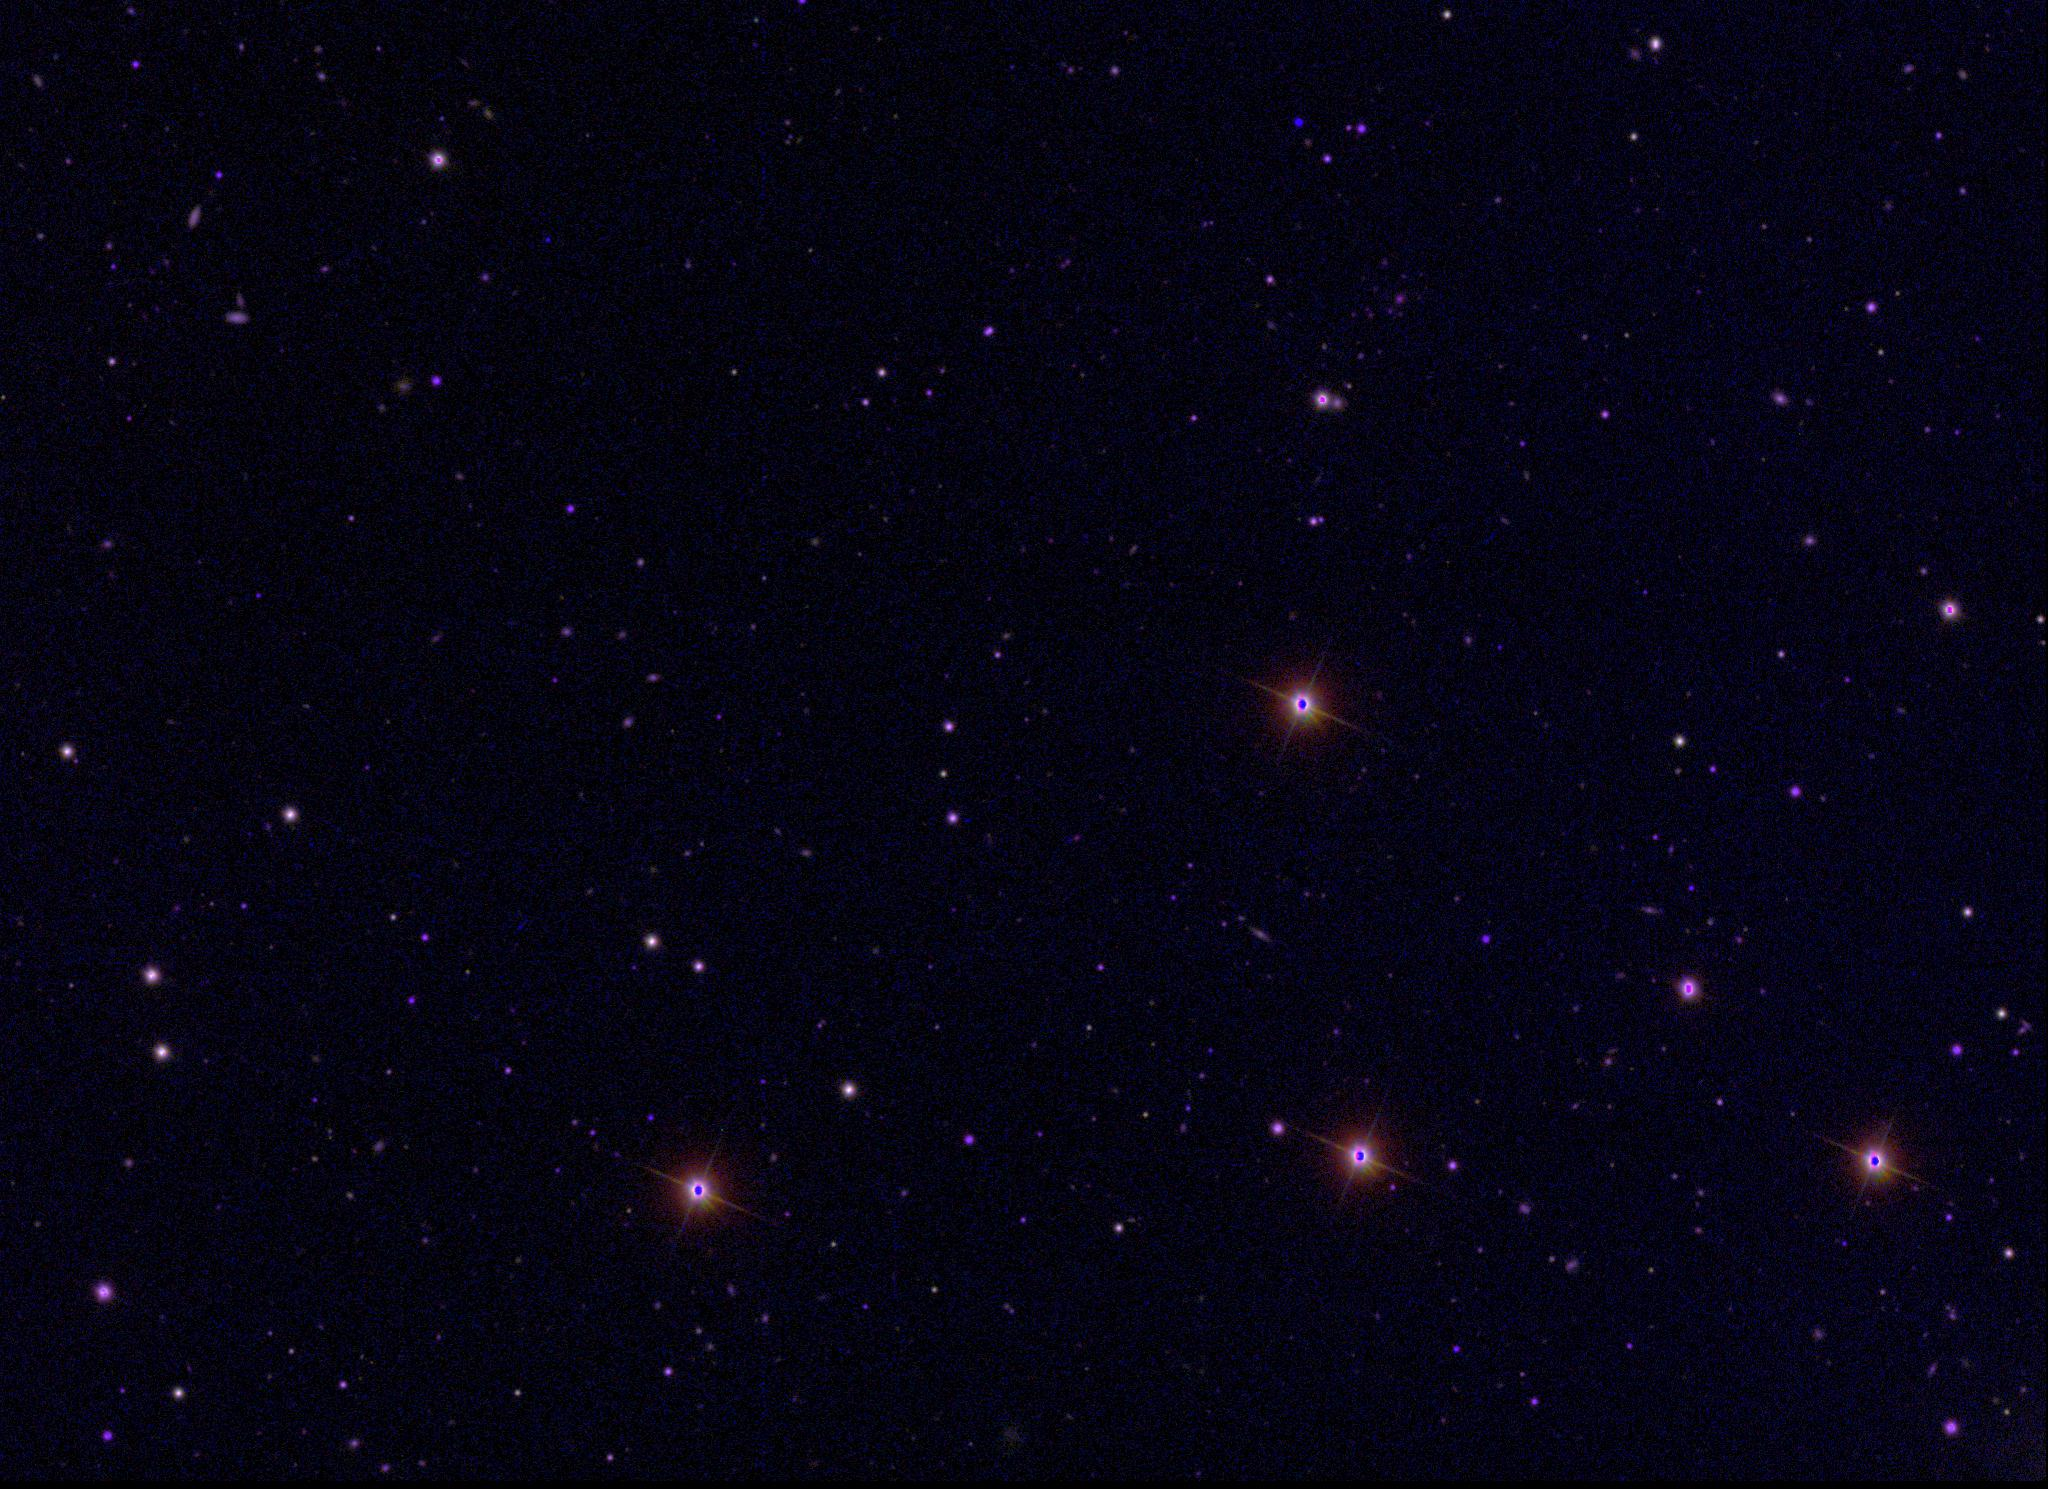L: (1290, 115, 1302, 127)
